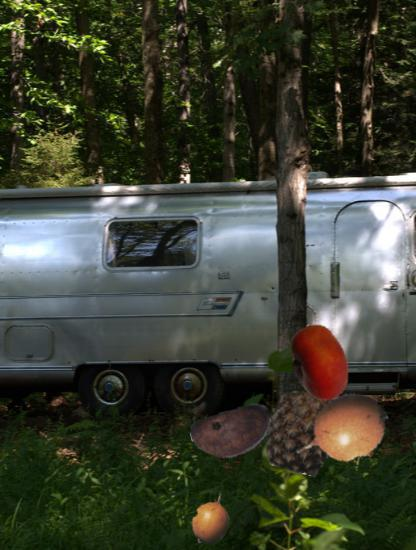Chestnut: (191, 392, 274, 475)
Granadilla: (291, 381, 391, 481), (185, 490, 241, 546)
Nectarine: (280, 323, 359, 402)
Pineapple: (260, 390, 342, 472)
